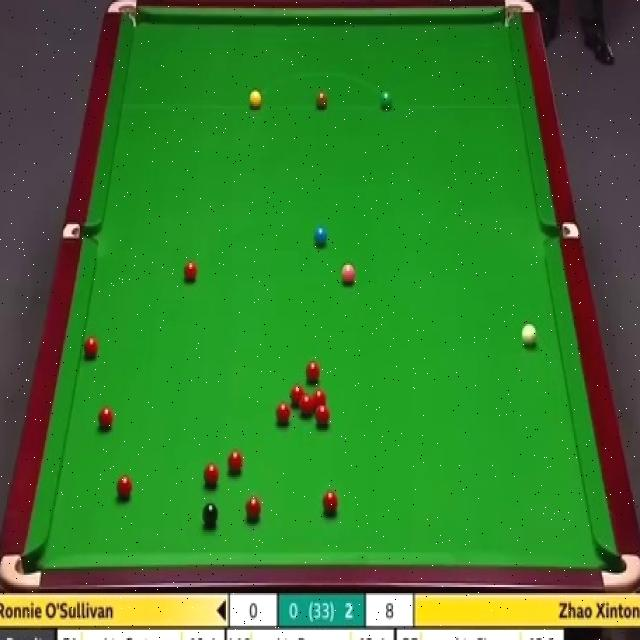black-ball: (202, 502, 220, 525)
blue-ball: (314, 224, 328, 250)
brown-ball: (315, 89, 328, 109)
green-ball: (380, 90, 393, 109)
pink-ball: (341, 265, 356, 287)
red-ball: (321, 488, 340, 520), (112, 473, 132, 500), (245, 495, 262, 524), (95, 403, 113, 430), (82, 336, 100, 362), (289, 382, 306, 407), (203, 462, 220, 487), (304, 360, 322, 383), (228, 449, 243, 476), (312, 390, 328, 414), (299, 395, 315, 417), (276, 400, 290, 423), (183, 263, 198, 281), (308, 405, 322, 423)
white-ball: (520, 322, 538, 350)
yellow-ball: (248, 89, 262, 109)
